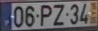0: (12, 5, 24, 28)
3: (68, 3, 79, 25)
4: (79, 3, 89, 24)
6: (24, 4, 35, 27)
P: (38, 4, 52, 27)
Z: (52, 4, 65, 26)
